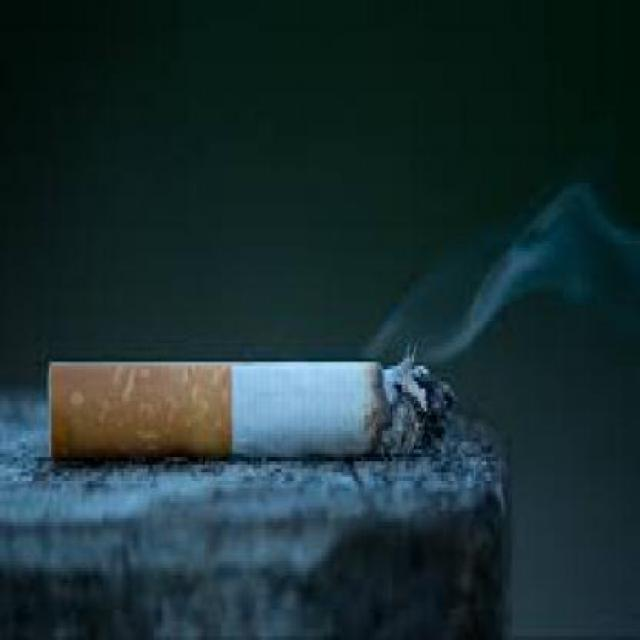cigarette: (42, 350, 460, 461)
